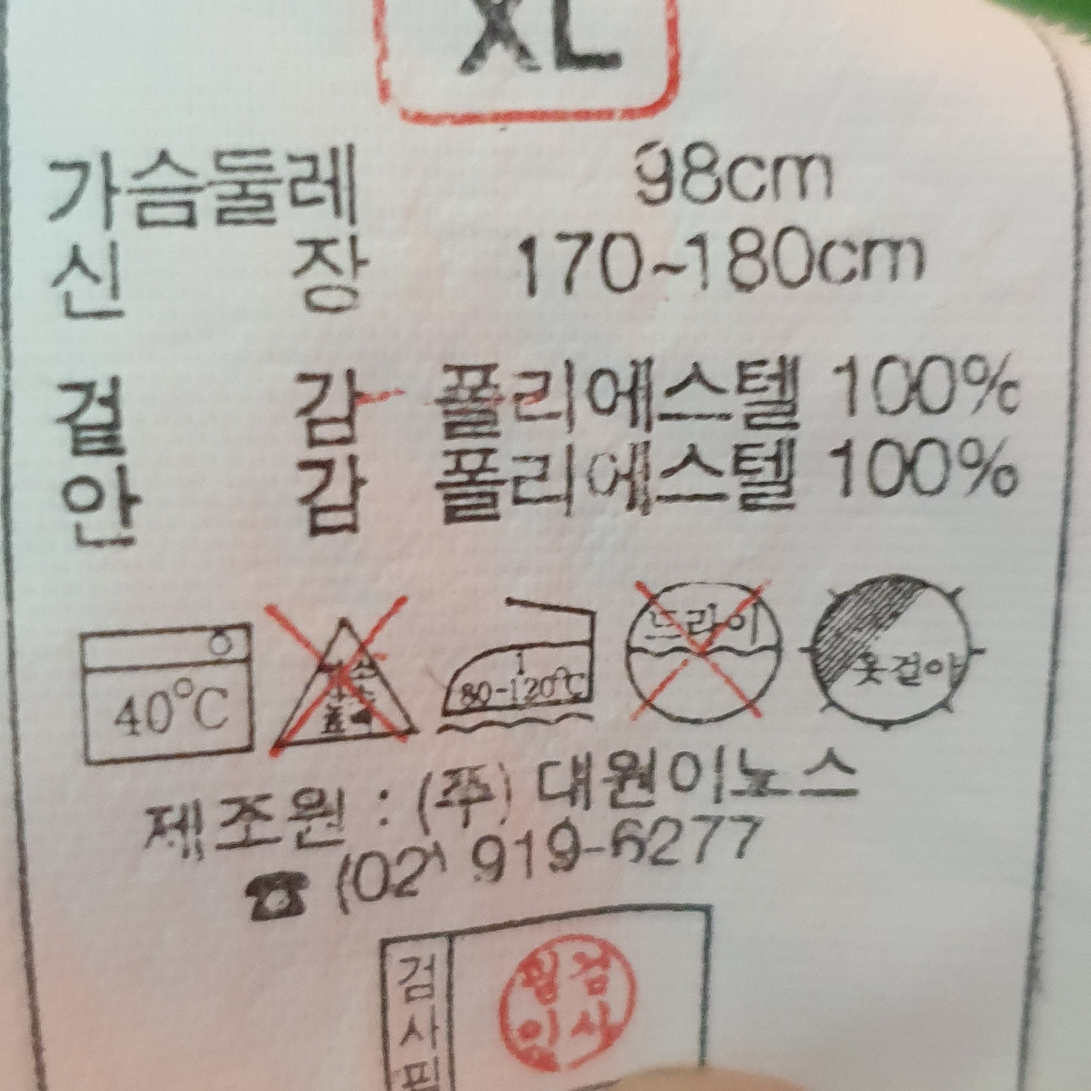KR_hang_dry_in_shade: (799, 562, 988, 736)
KR_iron_low_temp_with_cloth: (424, 584, 610, 736)
KR_no_bleach: (269, 603, 422, 756)
KR_no_dry_clean: (617, 569, 793, 734)
KR_wash_40: (67, 613, 262, 779)
